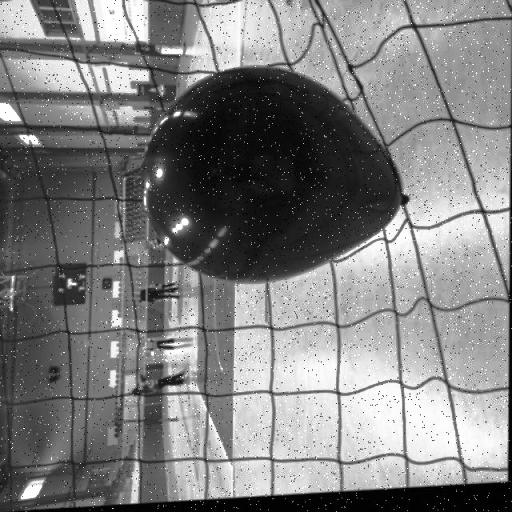balloon: (140, 60, 407, 290)
